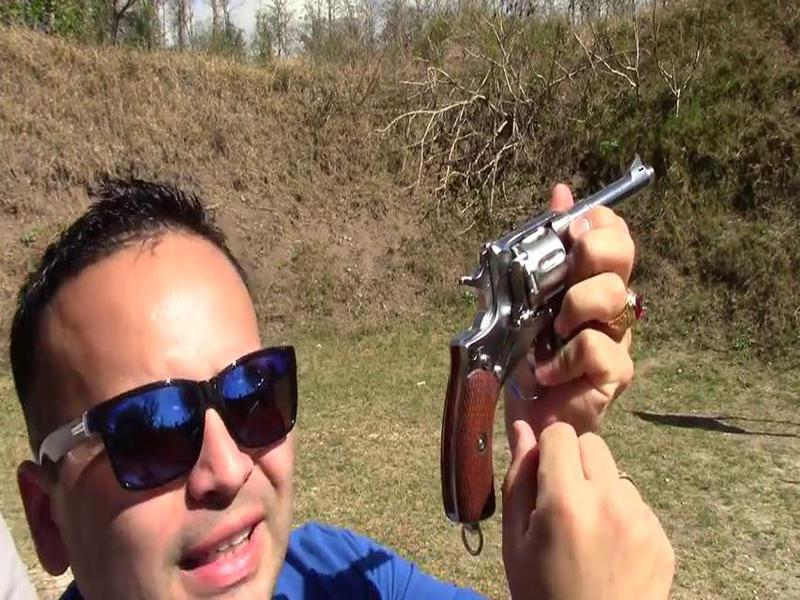Revolver: (426, 142, 660, 514)
